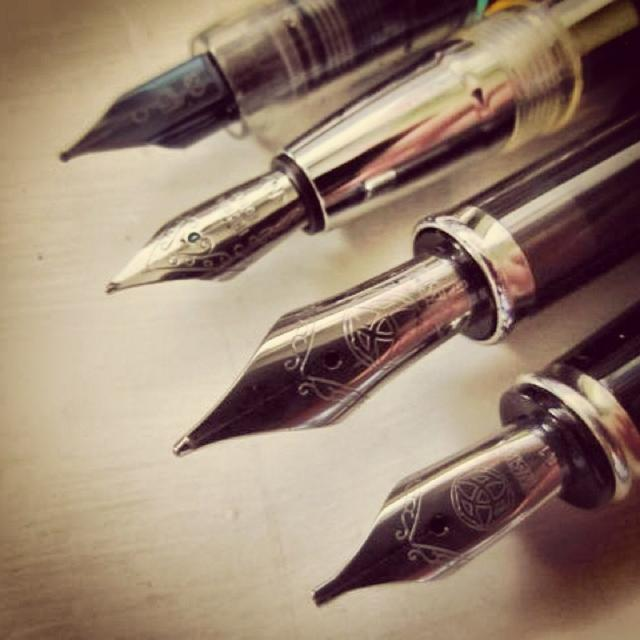pen: (50, 0, 639, 609)
